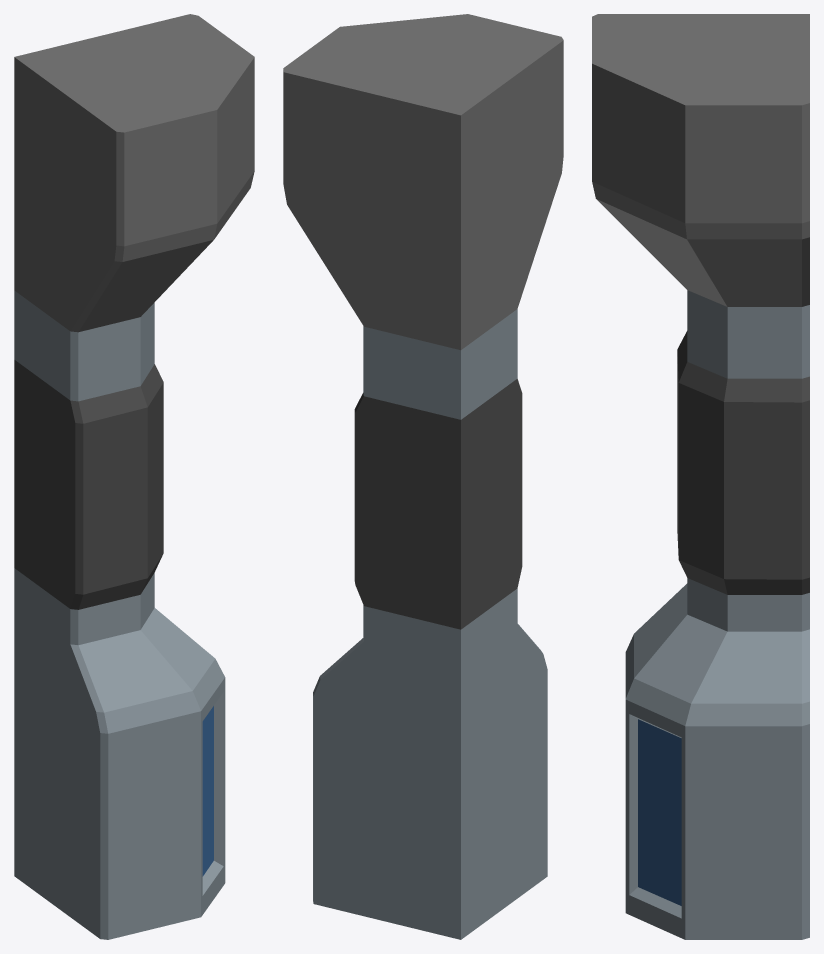
The model's file is SM_Bld_Wall_Corner_Pillar_02.fbx.
3 renders of one model, left to right at view 1: azimuth 30°, elevation 25°; view 2: azimuth 150°, elevation 25°; view 3: azimuth 270°, elevation 25°, orthographic. The views are drawn at different scales.
Visible parts, largest first — view 1: SM_Bld_Wall_Corner_Pillar_02; view 2: SM_Bld_Wall_Corner_Pillar_02; view 3: SM_Bld_Wall_Corner_Pillar_02.
Boxes of the visible parts, left/top/right/bottom form: SM_Bld_Wall_Corner_Pillar_02: left=14, top=14, right=254, bottom=939; SM_Bld_Wall_Corner_Pillar_02: left=283, top=14, right=563, bottom=939; SM_Bld_Wall_Corner_Pillar_02: left=592, top=14, right=809, bottom=939.
Bounding box in the file's own units: 117 × 509 × 118.
1 material, 1 textured.
